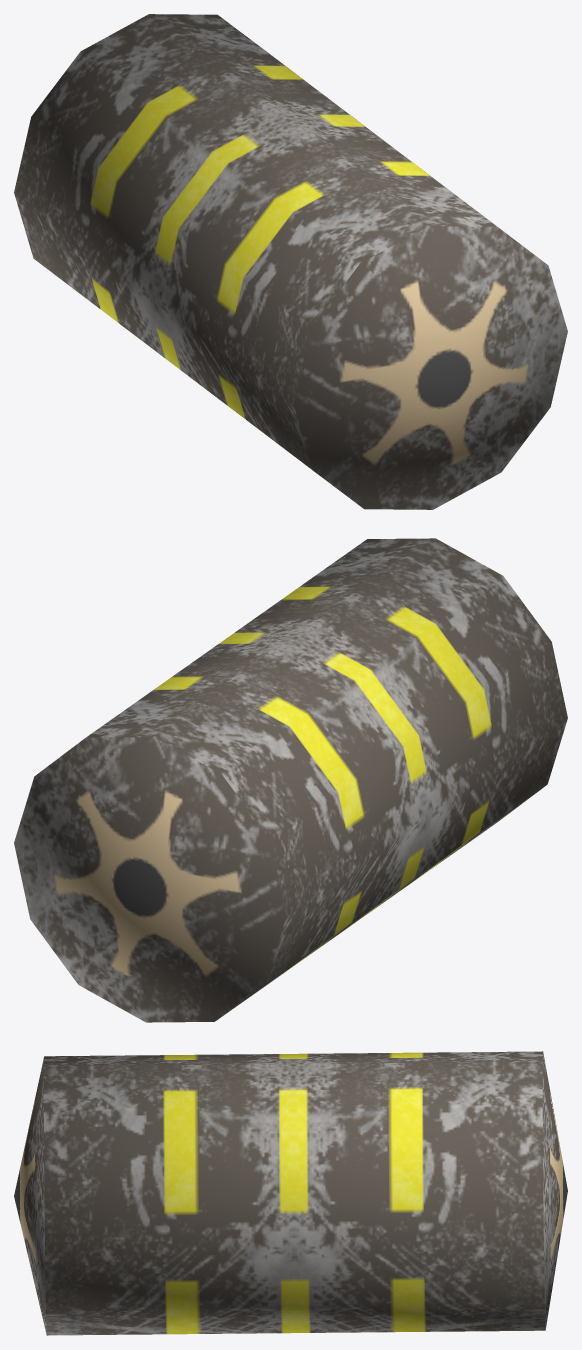
Rendered from zuolun_danjia.FBX.
3 renders of one model, top to bottom at view 1: azimuth 30°, elevation 25°; view 2: azimuth 150°, elevation 25°; view 3: azimuth 270°, elevation 25°, orthographic. The views are drawn at different scales.
Parts seen in each view (by area): view 1: Object001; view 2: Object001; view 3: Object001.
Part boxes in pixels (<box>): Object001: <box>14,14,567,509</box>; Object001: <box>14,538,567,1022</box>; Object001: <box>14,1051,567,1335</box>.
Bounding box in the file's own units: 0.0276 × 0.028 × 0.0542.
